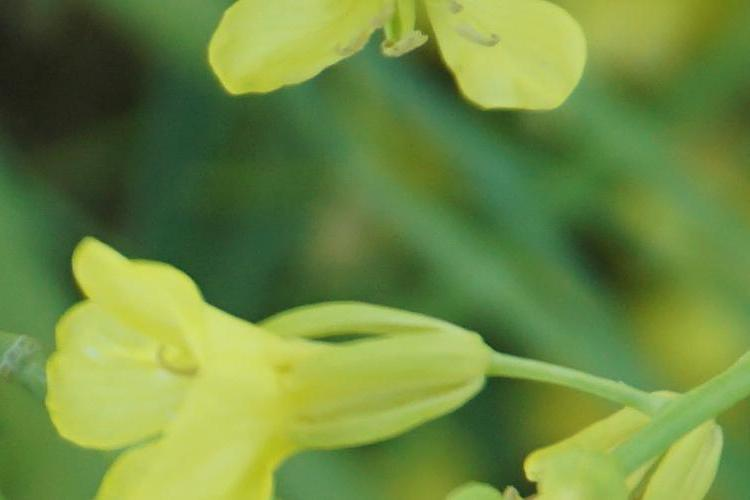yellow: (50, 227, 498, 499)
